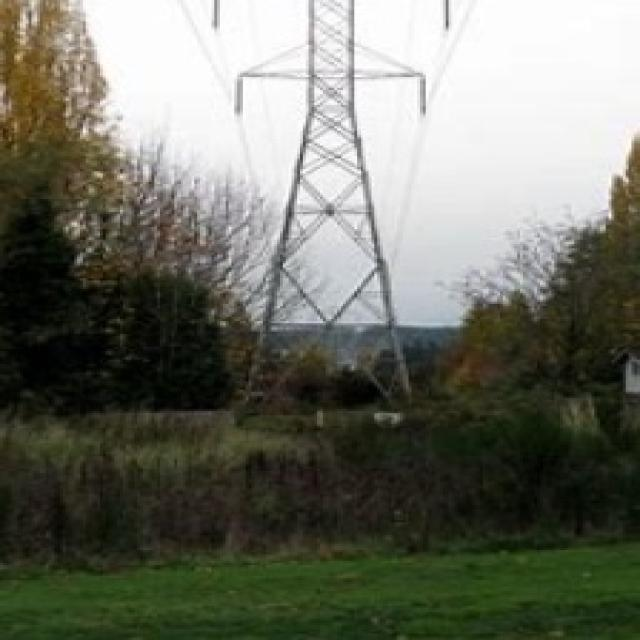utility poles: (173, 213, 315, 412), (341, 289, 541, 419)
